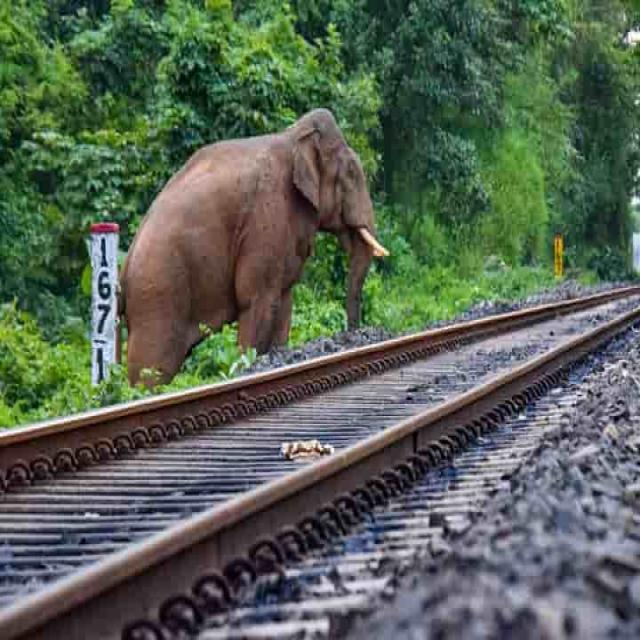Elephant: (115, 88, 390, 366)
